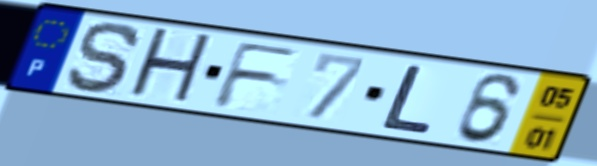6: (453, 71, 524, 147)
7: (307, 49, 370, 123)
F: (208, 39, 305, 110)
H: (122, 25, 216, 109)
L: (377, 62, 436, 137)
S: (62, 19, 146, 97)
